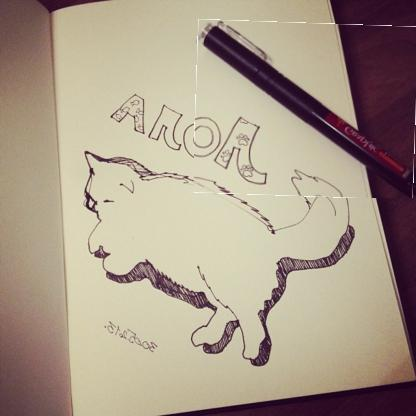Pen: (194, 21, 415, 199)
